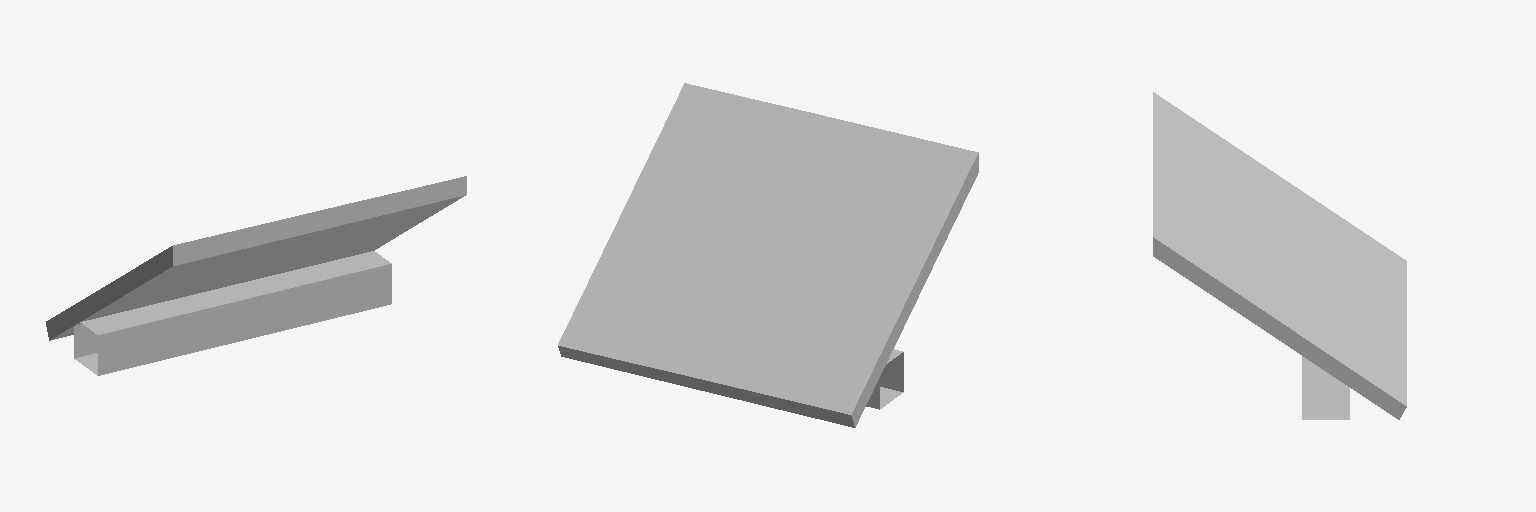
Rendered from Roof_Wooden_2x1_Center_Mirror.obj.
3 renders of one model, left to right at view 1: azimuth 30°, elevation 25°; view 2: azimuth 150°, elevation 25°; view 3: azimuth 270°, elevation 25°, orthographic.
Parts seen in each view (by area): view 1: Roof_Wooden_2x1_Center_Mirror; view 2: Roof_Wooden_2x1_Center_Mirror; view 3: Roof_Wooden_2x1_Center_Mirror.
Part boxes in pixels (left/top/right/bottom): Roof_Wooden_2x1_Center_Mirror: left=46, top=176, right=466, bottom=375; Roof_Wooden_2x1_Center_Mirror: left=558, top=83, right=978, bottom=427; Roof_Wooden_2x1_Center_Mirror: left=1153, top=92, right=1406, bottom=419.
Size of the model in its own units: 2 by 1.21 by 1.5.